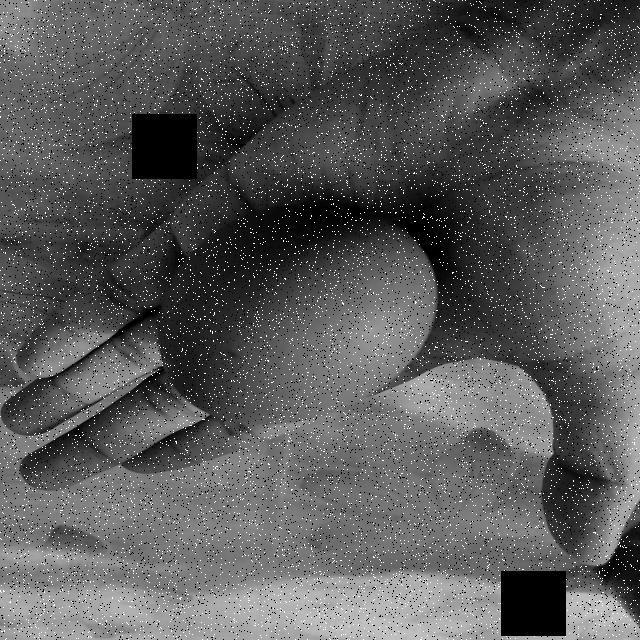egg: (152, 200, 440, 427)
